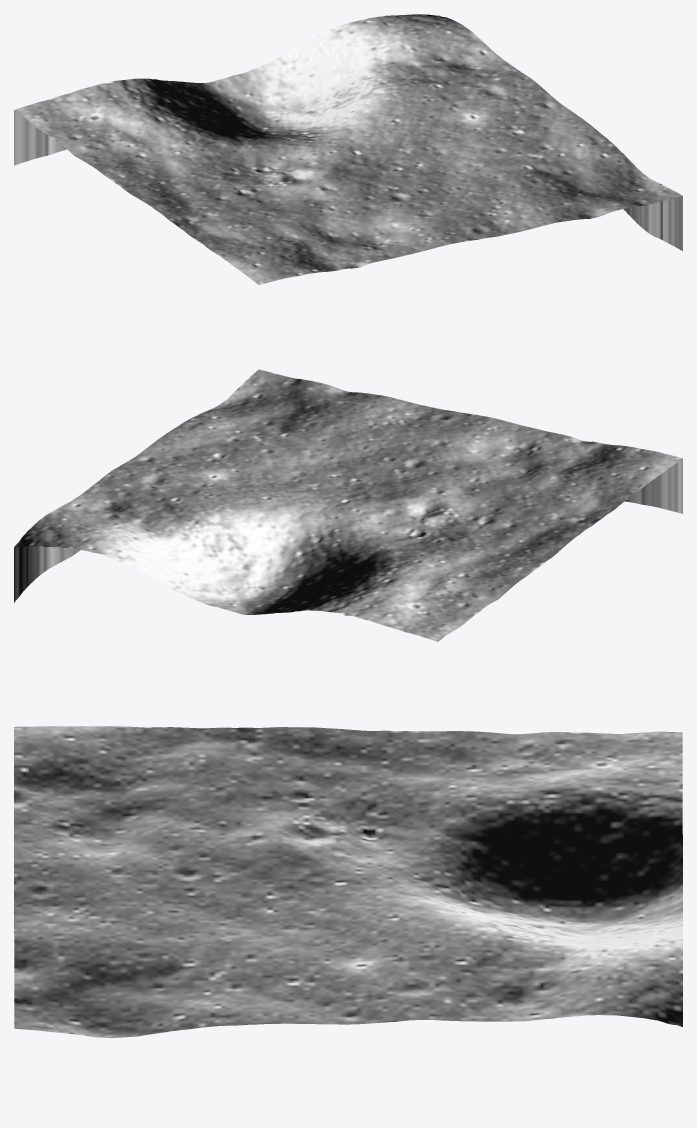
3 views of the same model, one above another, from view 1: azimuth 30°, elevation 25°; view 2: azimuth 150°, elevation 25°; view 3: azimuth 270°, elevation 25° (orthographic). The views are drawn at different scales.
Size of the model in its own units: 639 by 118 by 639.
1 material, 1 textured.
